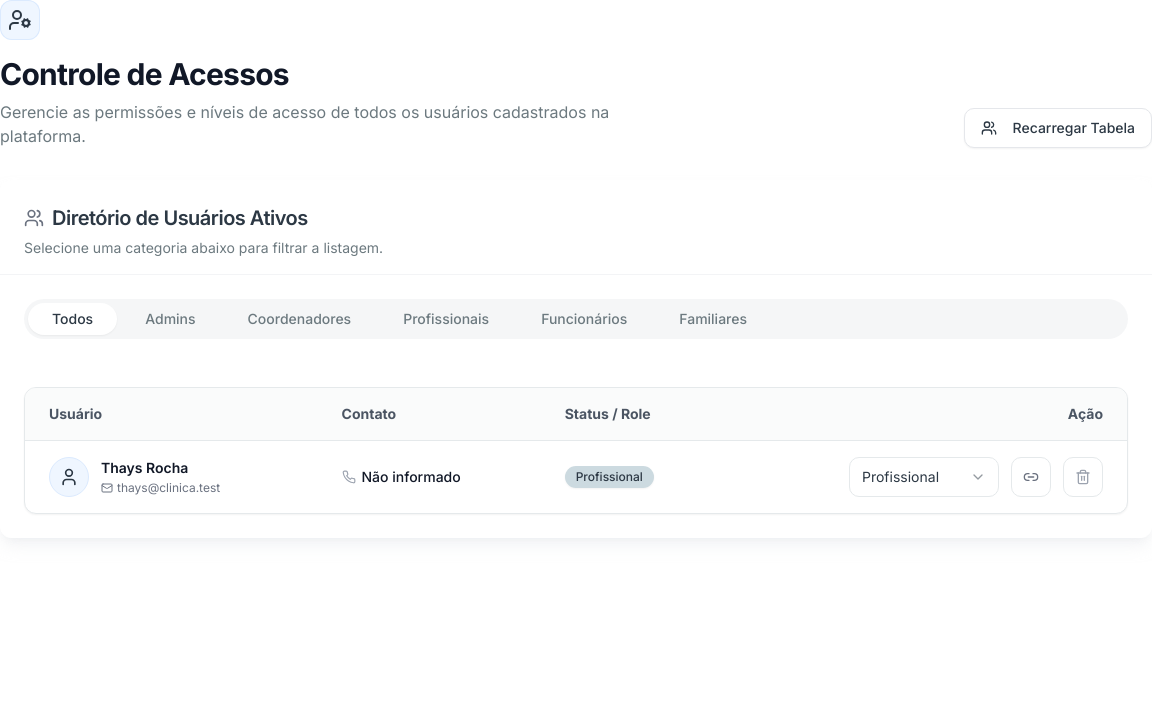
Test: avisa quando a conta já usa outro cadastro
This screenshot has width=1152, height=720.
Later steps or results of the test are not shown.
What coordinates should you click on to do the following:
click the button named "Cadastro de profissional de Thays Rocha"
I would click on:
 (1031, 477)
Its box is [1011,457,1051,497].
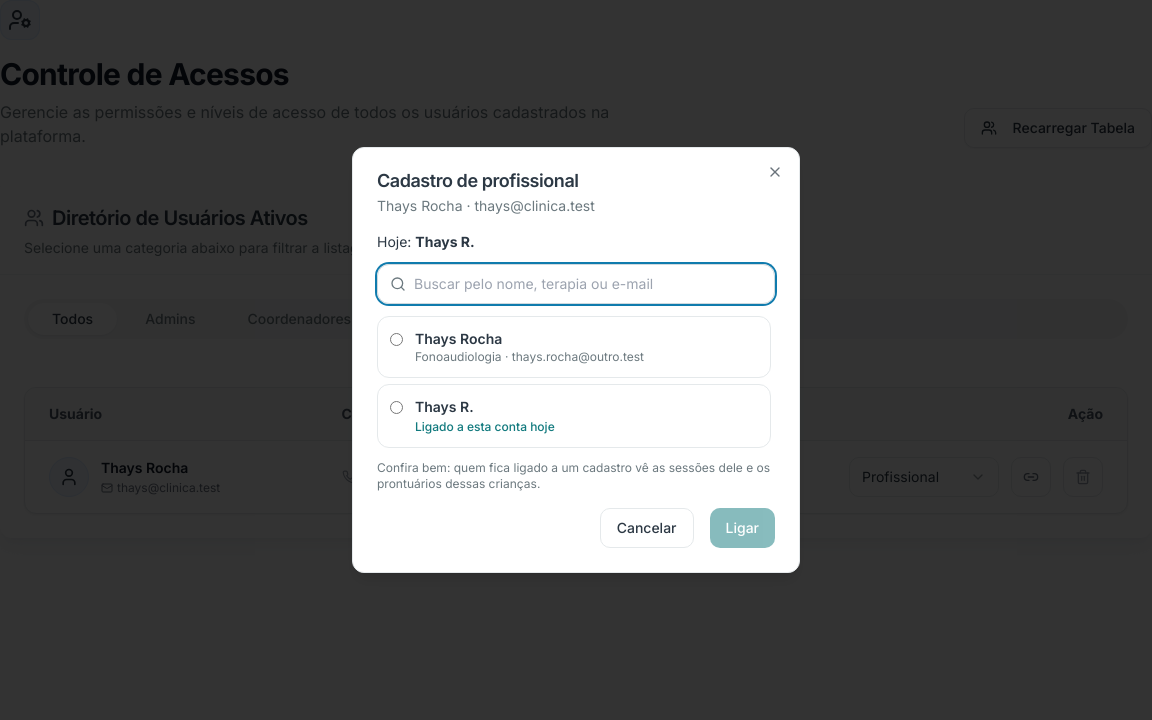
Expected: the text "Thays R." next to "Hoje:" is shown, [415,233,475,250]
What coordinates should you click on to do the following:
click the radio button labelled "Thays Rocha Fonoaudiologia · thays.rocha@outro.test"
I would click on:
 (396, 340)
Its box is [390,333,403,346].
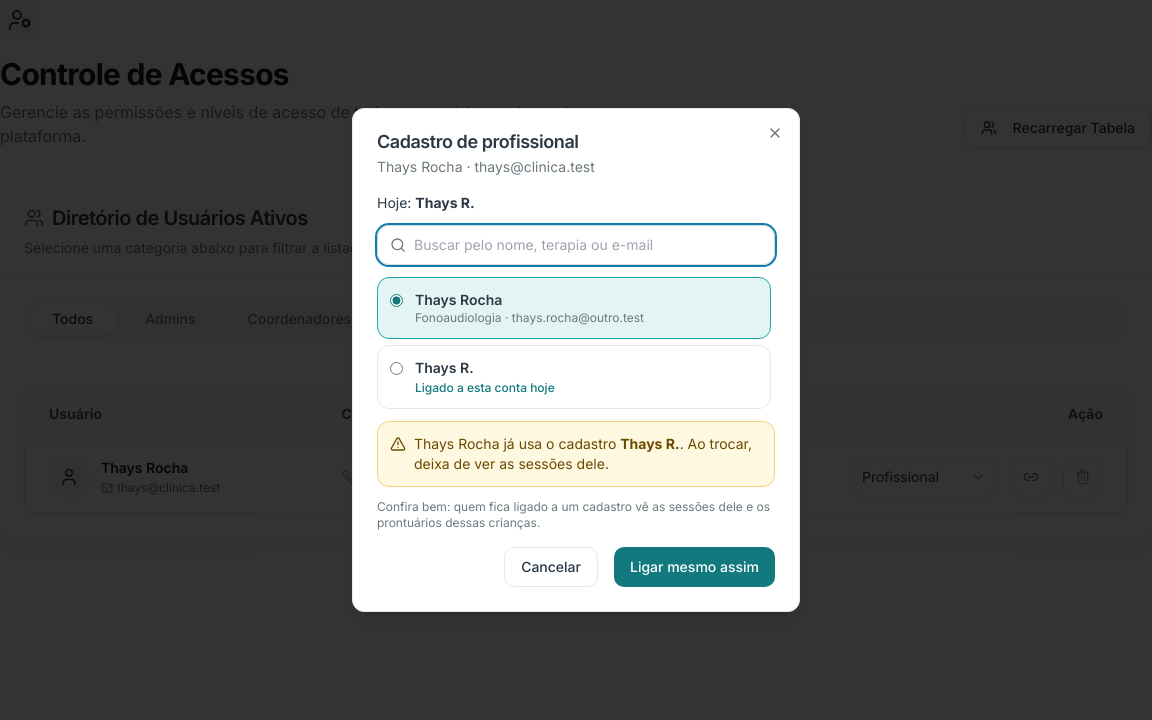
Expected: the message shows "Thays Rocha já usa o cadastro Thays R.", [377,421,775,487]
